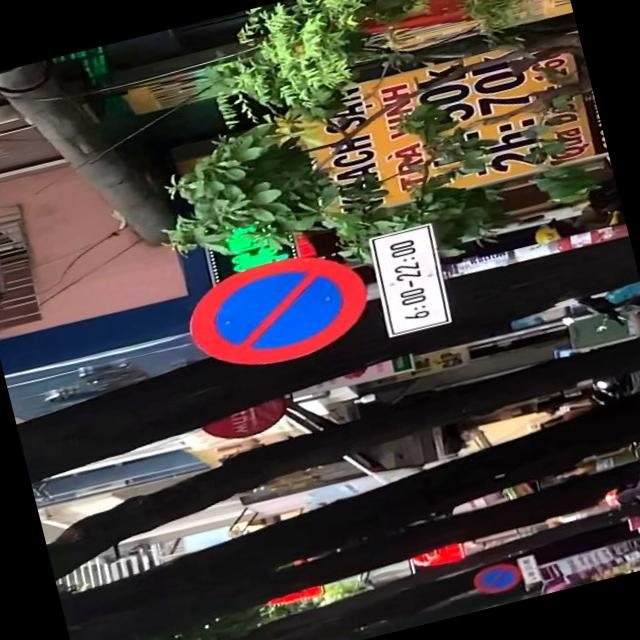P-131a: (176, 240, 378, 382)
